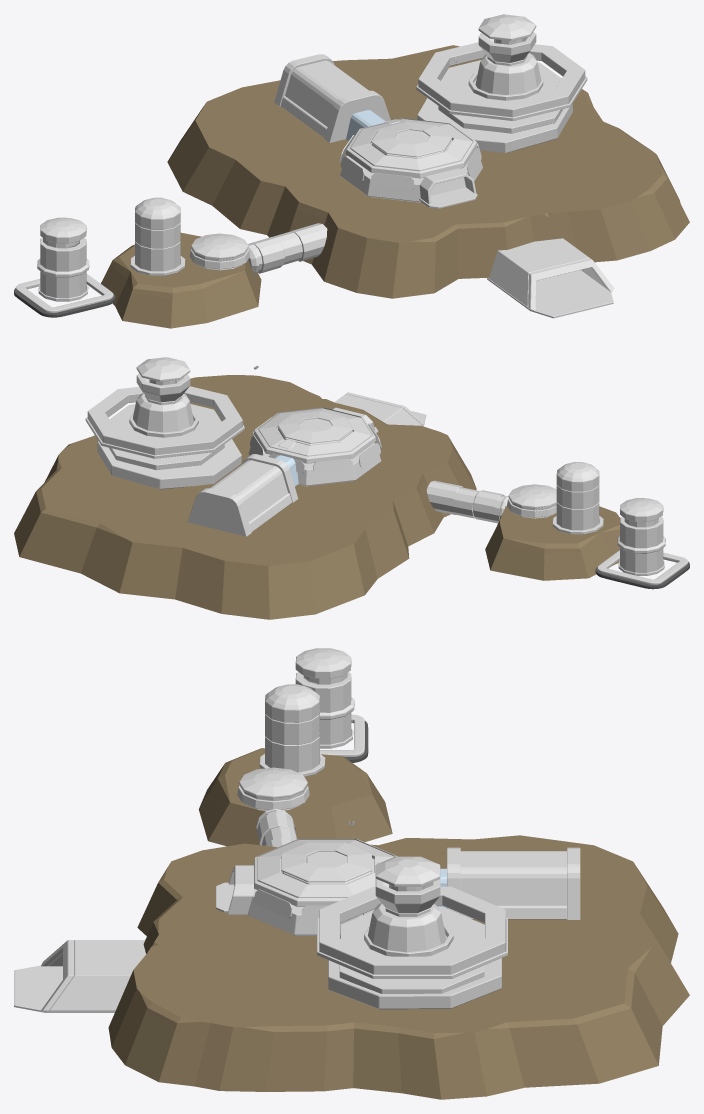
The picture shows the model from 3 angles, top to bottom: view 1: azimuth 30°, elevation 25°; view 2: azimuth 150°, elevation 25°; view 3: azimuth 270°, elevation 25°; orthographic projection. The views are drawn at different scales.
Visible parts, largest first — view 1: ground, ground2, Circle.039, Circle.052, Plane.012, Circle.008, Circle.006, Plane.021, Circle.050, Circle.001_slice, Plane.004, Circle.003 (+16 smaller); view 2: ground, ground2, Circle.039, Circle.052, Circle.001_slice, Circle.006, Circle.008, Plane.004, Plane.021, Circle.003, Circle.002_slice, Cylinder (+12 smaller); view 3: ground, ground2, Circle.052, Circle.039, Plane.012, Plane.021, Circle.006, Circle.008, Circle.001_slice, Circle.003, Circle.002_slice, Circle.043 (+11 smaller).
Part boxes in pixels (x1,y1,x2,y2): ground: (167,45,689,298); ground2: (101,232,261,328); Circle.039: (340,118,482,202); Circle.052: (418,42,585,117); Plane.012: (488,238,614,310); Circle.008: (40,217,86,298); Circle.006: (135,197,180,271); Plane.021: (285,60,368,126); Circle.050: (487,270,613,318); Circle.001_slice: (417,98,572,152); Plane.004: (274,54,390,142); Circle.003: (478,14,536,65); ground: (14,375,476,619); ground2: (485,506,620,580); Circle.039: (248,408,381,486); Circle.052: (87,386,242,455); Circle.001_slice: (97,439,241,489); Circle.006: (556,462,599,530); Circle.008: (620,498,663,572); Plane.004: (187,454,298,536); Plane.021: (210,460,287,521); Circle.003: (136,357,190,404); Circle.002_slice: (133,379,193,432); Cylinder: (426,480,508,523); ground: (108,835,689,1099); ground2: (198,748,392,846); Circle.052: (319,886,505,974); Circle.039: (247,839,397,935); Plane.012: (40,940,146,1011); Plane.021: (460,851,566,905); Circle.006: (265,684,319,772); Circle.008: (295,648,351,744); Circle.001_slice: (328,958,501,1009); Circle.003: (375,856,440,916); Circle.002_slice: (368,884,446,952); Circle.043: (281,842,371,882).
Bounding box in the file's own units: 10121 × 2300 × 7918.
